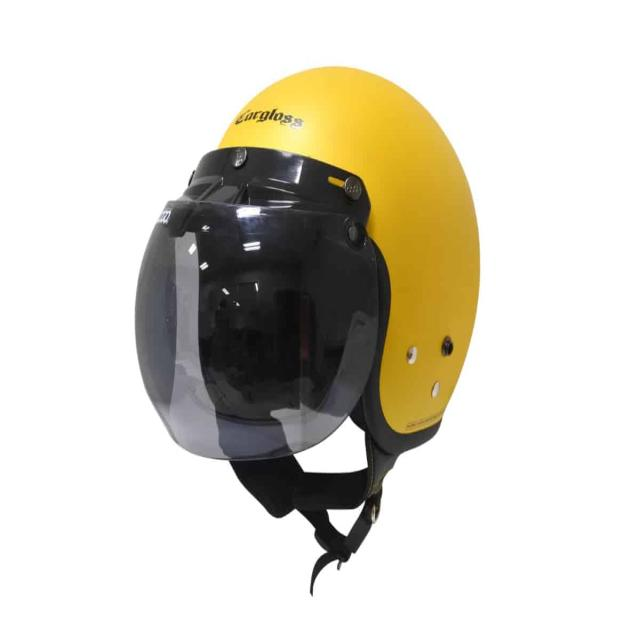Helm: (127, 56, 484, 589)
